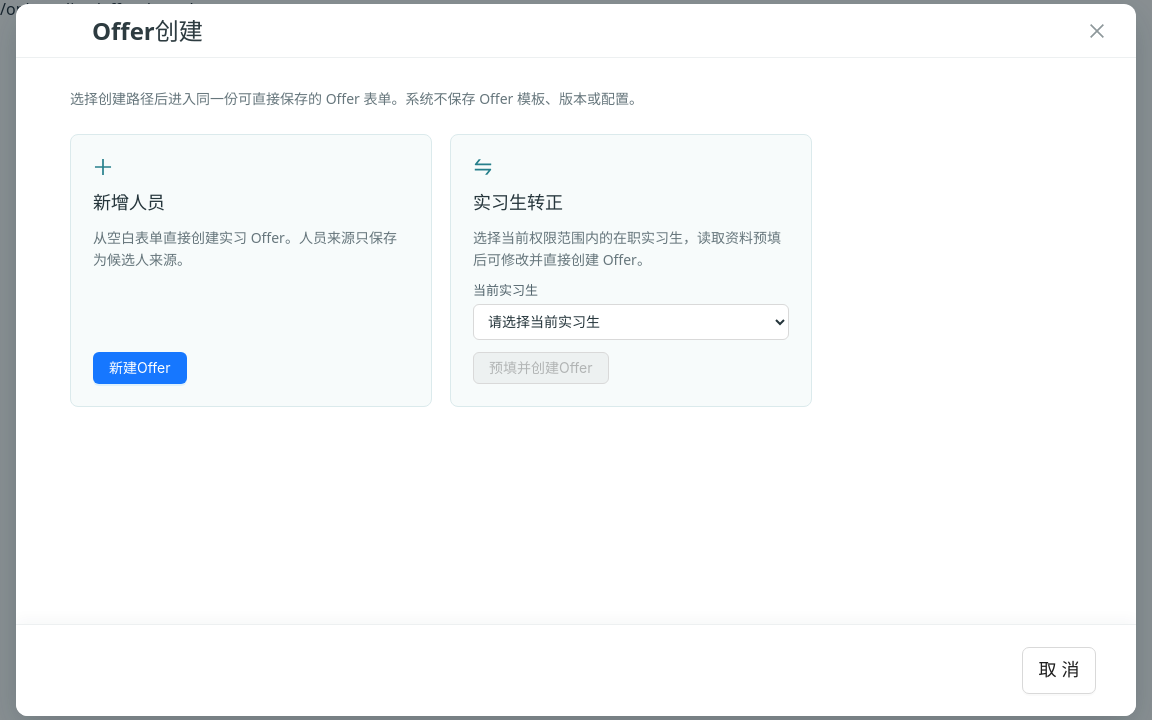
Test: OfferCreationPage direct creation entry › navigates a selected current intern to the direct prefill URL
Select "虚构实习生（FAKE-I001）" in the dropdown named "实习生转正员工": [631, 322] box [473,304,789,340]
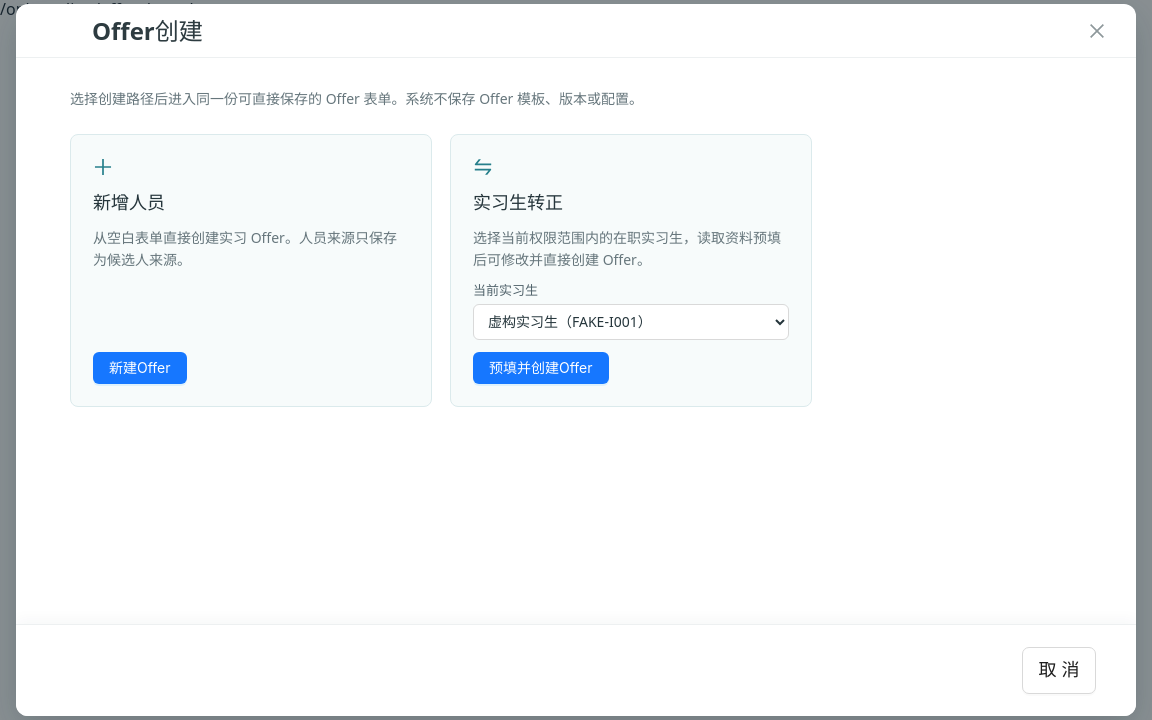
Click the button "预填并创建Offer": [541, 368] box [473,352,608,384]
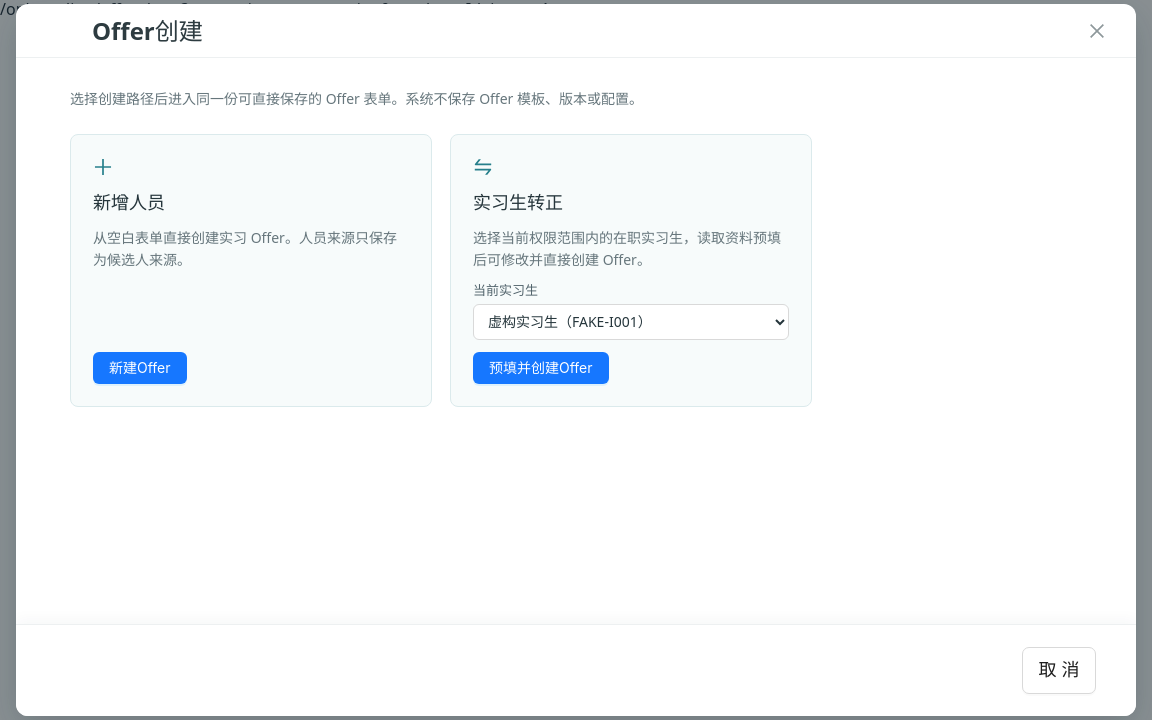
Expected: the text with test id "location-search" reads "/onboarding/offers/new?source=intern-conversion&employeeId=intern-1", [0,0,550,18]
